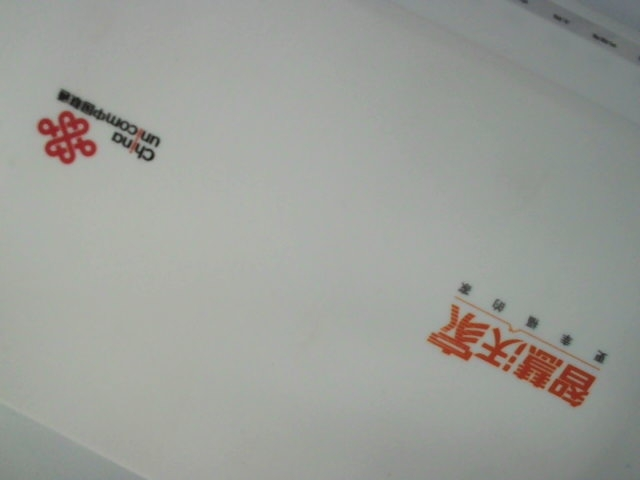AC_ChinaUnicom: (24, 81, 167, 180)
